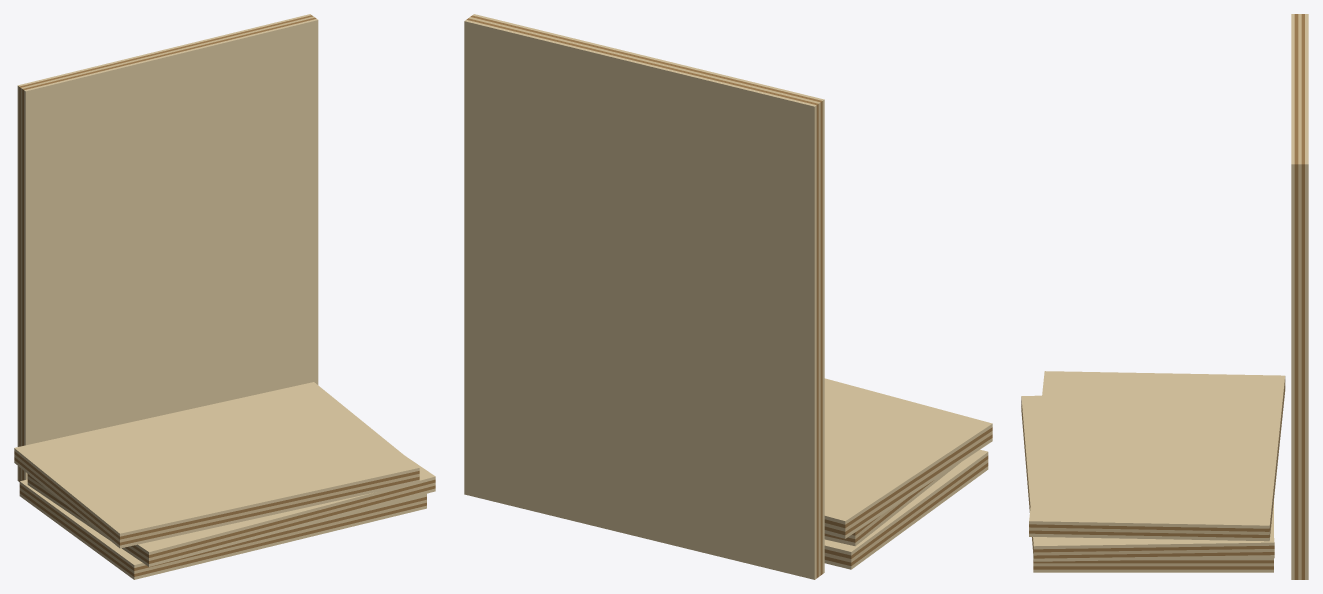
The model's file is plywood.glb.
The picture shows the model from 3 angles, left to right: view 1: azimuth 30°, elevation 25°; view 2: azimuth 150°, elevation 25°; view 3: azimuth 270°, elevation 25°; orthographic projection. The views are drawn at different scales.
Visible parts, largest first — view 1: plywood; view 2: plywood; view 3: plywood.
Part boxes in pixels (x1,y1,x2,y2): plywood: [14, 14, 435, 579]; plywood: [464, 14, 992, 579]; plywood: [1021, 14, 1308, 579].
Bounding box in the file's own units: 0.6689 × 0.8 × 0.5007.
